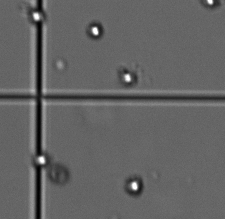Dead Cell: (48, 163, 70, 185)
Living Cell: (123, 174, 146, 197), (117, 64, 137, 87), (85, 21, 105, 40), (30, 150, 50, 169), (26, 7, 47, 24), (199, 1, 220, 9)
